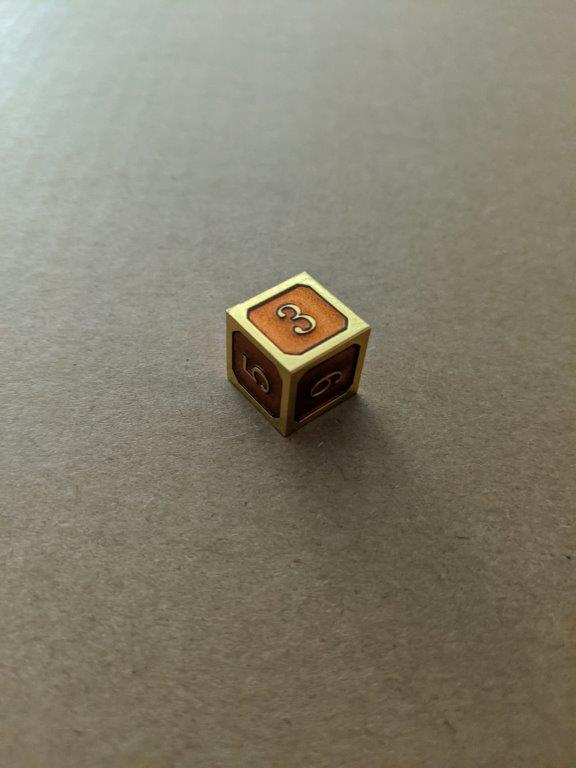d6-3: (224, 270, 370, 439)
